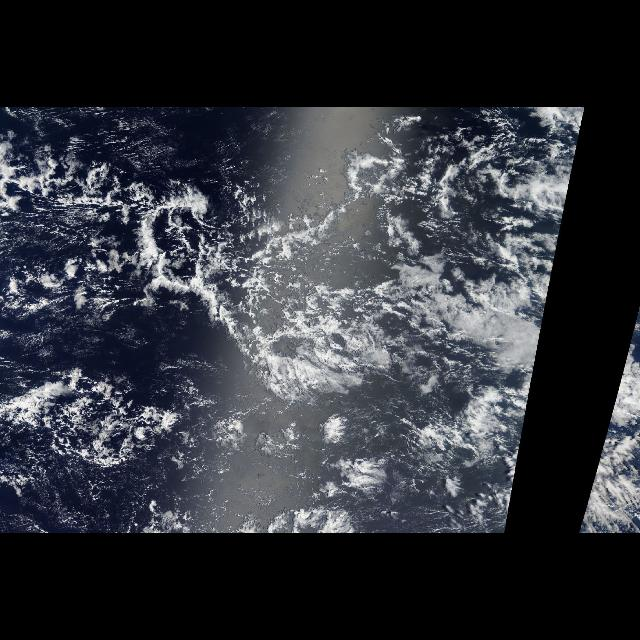Gravel: (2, 367, 258, 519), (207, 174, 379, 346)
